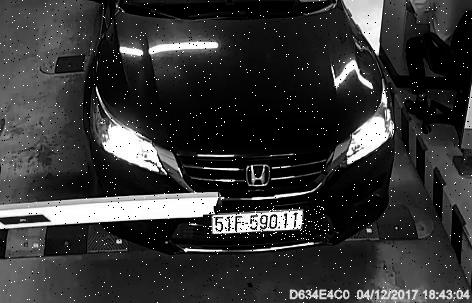License-plate: (205, 208, 331, 242)
